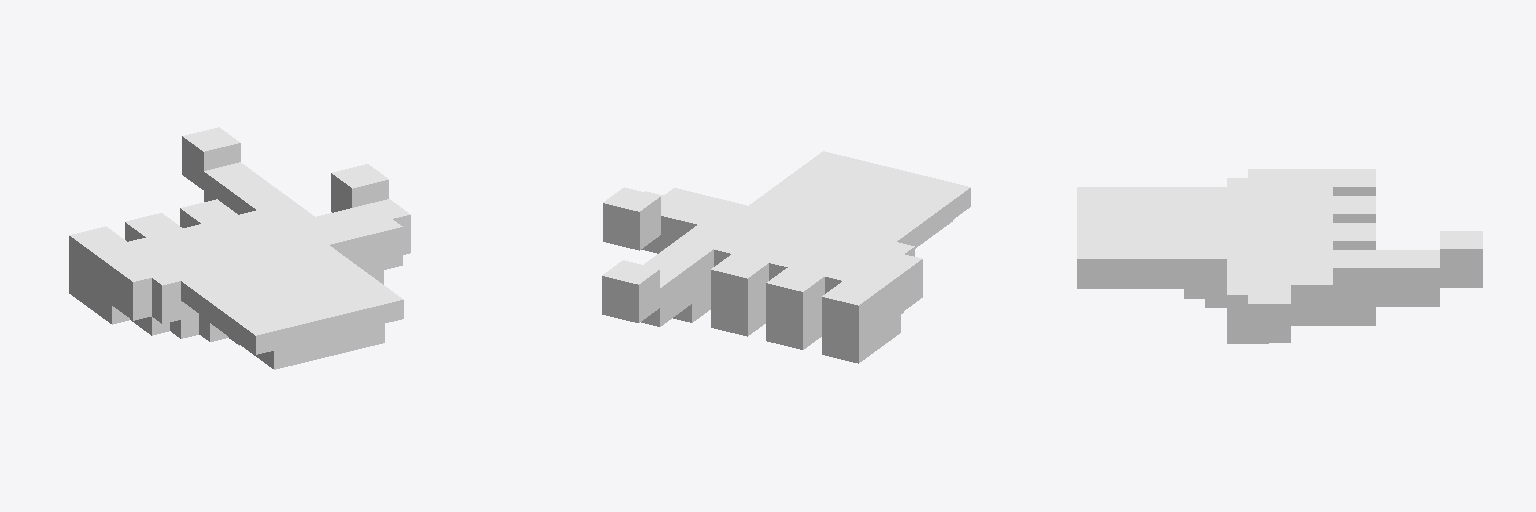
Rendered from PlayerHand2F.obj.
3 views of the same model, side by side, from view 1: azimuth 30°, elevation 25°; view 2: azimuth 150°, elevation 25°; view 3: azimuth 270°, elevation 25° (orthographic).
Visible parts, largest first — view 1: object 1; view 2: object 1; view 3: object 1.
Part boxes in pixels (x1,y1,x2,y2): object 1: (69,127,410,369); object 1: (602,151,970,363); object 1: (1077,169,1482,343).
Size of the model in its own units: 1.5 by 0.4 by 1.9.